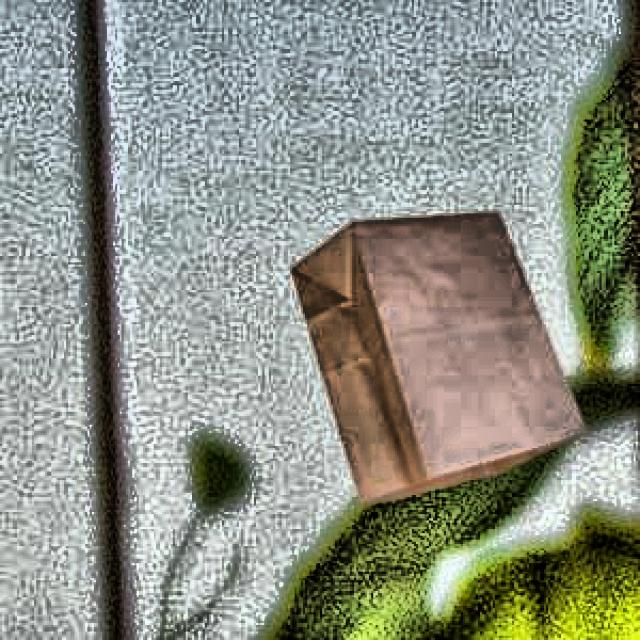Paper-bag: (284, 204, 590, 510)
